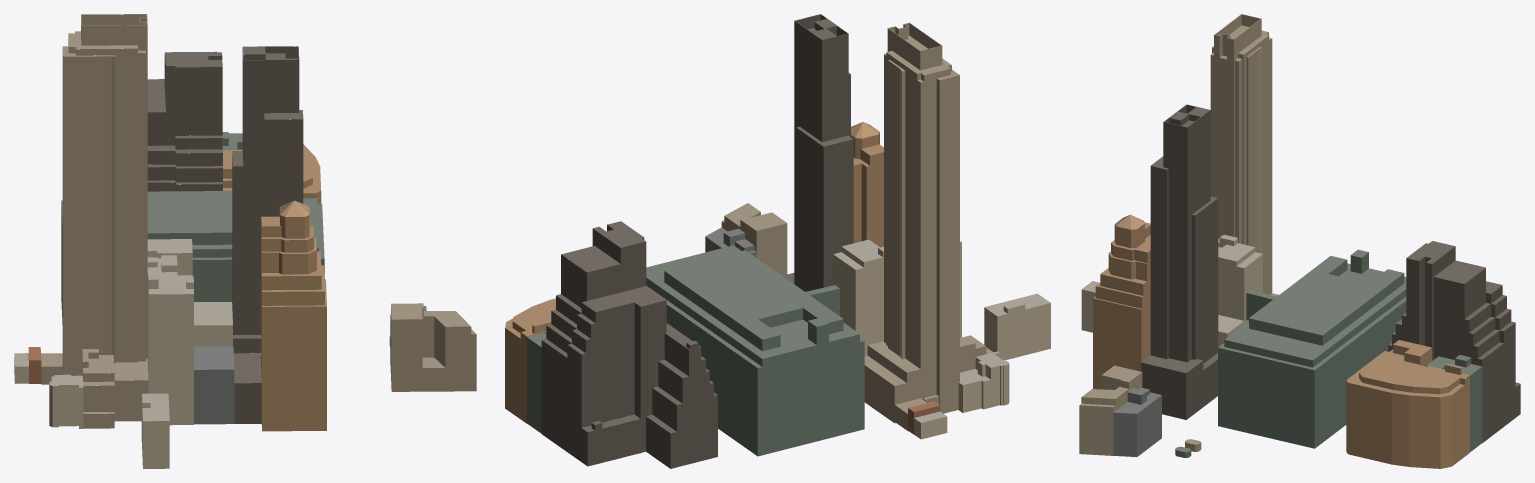
File: tile-3_-11.glb
3 views of the same model, side by side, from view 1: azimuth 30°, elevation 25°; view 2: azimuth 150°, elevation 25°; view 3: azimuth 270°, elevation 25° (orthographic). The views are drawn at different scales.
Parts seen in each view (by area): view 1: wall, roof; view 2: wall, roof; view 3: wall, roof.
Part boxes in pixels (left/top/right/bottom): wall: left=14, top=14, right=476, bottom=468; roof: left=14, top=14, right=476, bottom=421; wall: left=505, top=14, right=1050, bottom=468; roof: left=505, top=14, right=1050, bottom=433; wall: left=1079, top=14, right=1520, bottom=468; roof: left=1079, top=14, right=1520, bottom=452.
Bounding box in the file's own units: 209 × 196 × 242.
